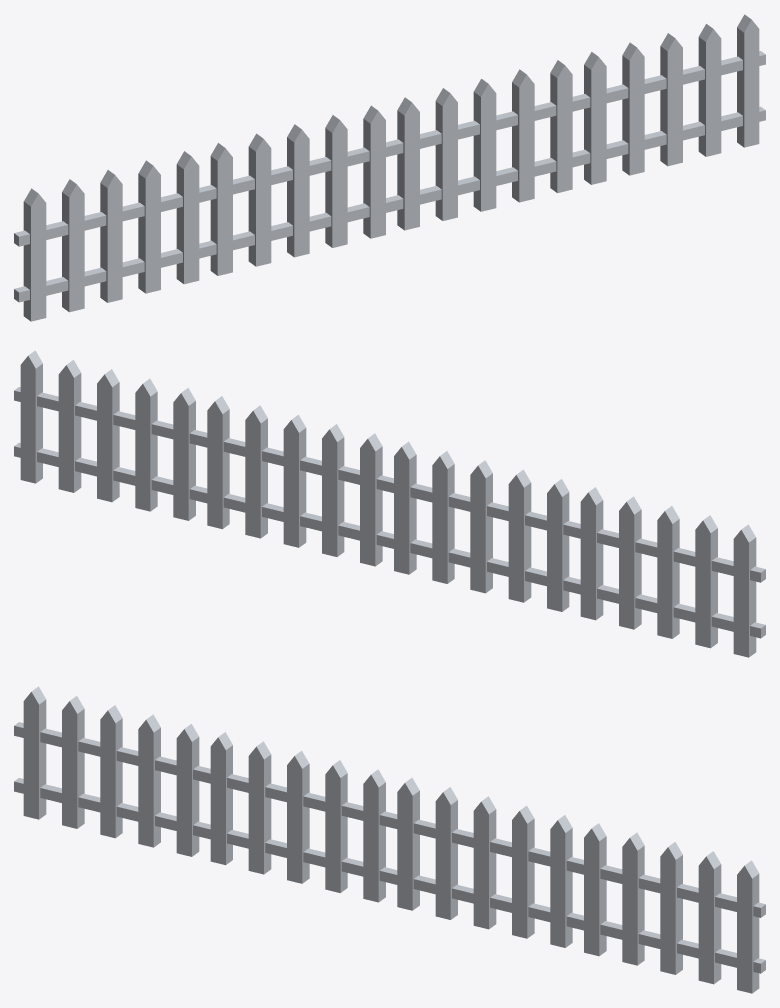
File: Building_Objects_Fence_03.fbx
3 renders of one model, top to bottom at view 1: azimuth 30°, elevation 25°; view 2: azimuth 150°, elevation 25°; view 3: azimuth 330°, elevation 25°, orthographic.
Visible parts, largest first — view 1: Building_Objects_Fence_03; view 2: Building_Objects_Fence_03; view 3: Building_Objects_Fence_03.
Boxes of the visible parts, x1,y1,x2,y2 form: Building_Objects_Fence_03: [14, 14, 765, 321]; Building_Objects_Fence_03: [14, 350, 765, 657]; Building_Objects_Fence_03: [14, 686, 765, 993].
Size of the model in its own units: 539 by 87.06 by 9.07.
